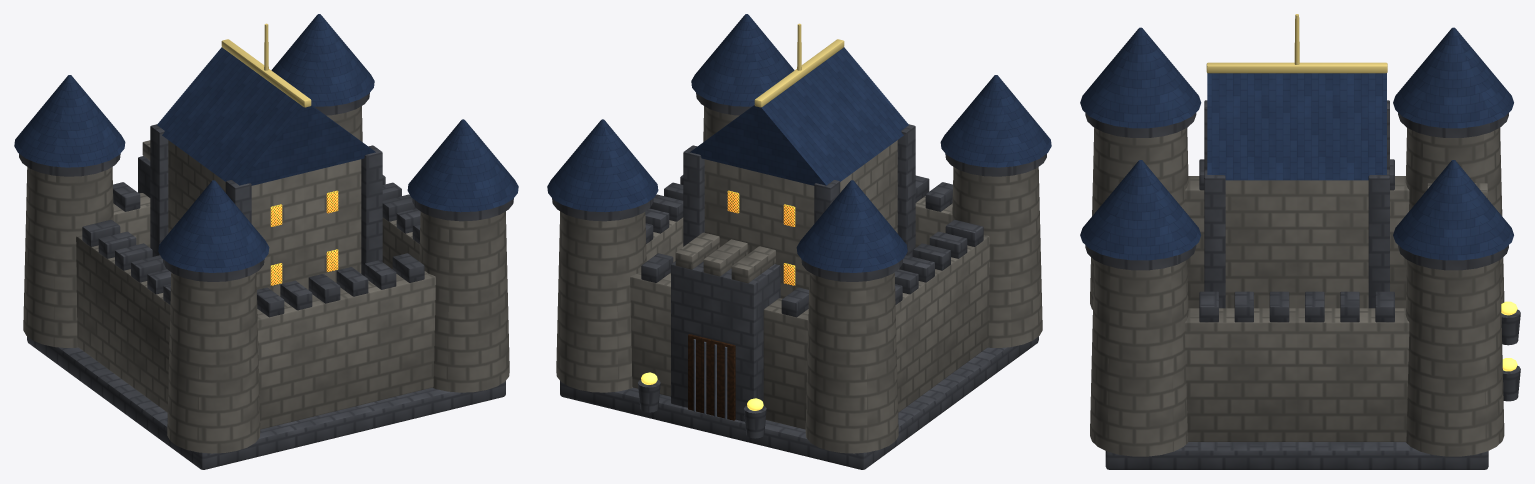
Rendered from building_castle.glb.
3 renders of one model, left to right at view 1: azimuth 30°, elevation 25°; view 2: azimuth 150°, elevation 25°; view 3: azimuth 270°, elevation 25°, orthographic. The views are drawn at different scales.
Parts seen in each view (by area): view 1: building_castle; view 2: building_castle; view 3: building_castle.
Boxes of the visible parts, bbox=[...] form: building_castle: bbox=[14, 14, 518, 469]; building_castle: bbox=[547, 14, 1051, 469]; building_castle: bbox=[1080, 14, 1520, 469].
Size of the model in its own units: 11.07 by 10.6 by 11.27.
Materials: 8 (6 with a texture image).
